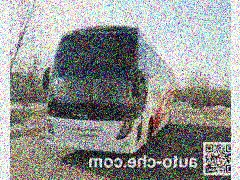bus: (43, 23, 176, 157)
